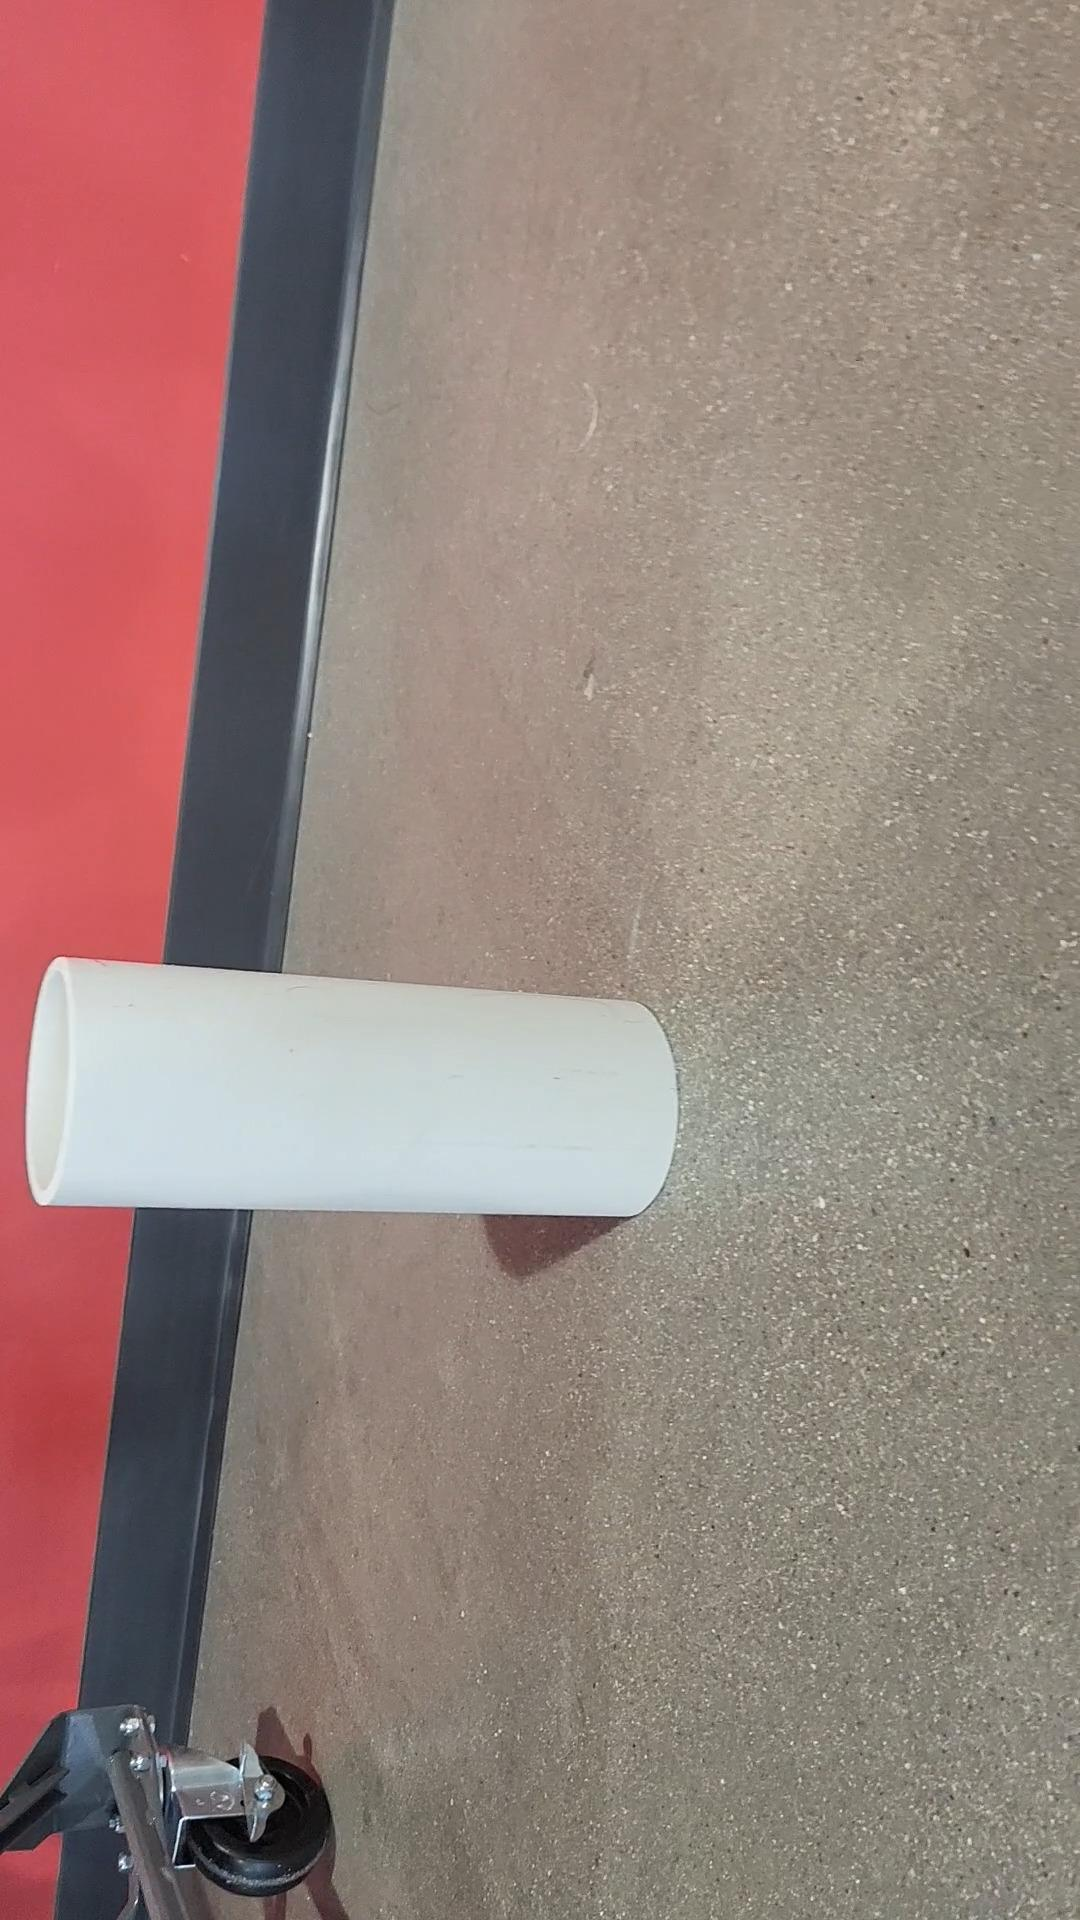coral: (26, 951, 687, 1220)
